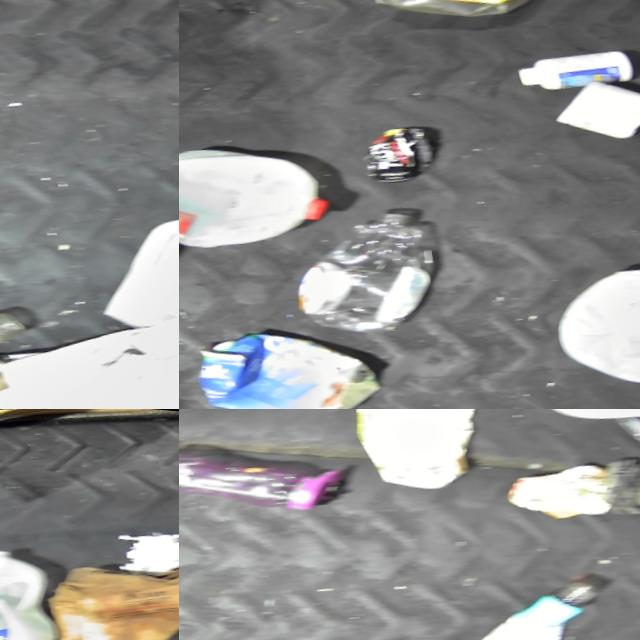can: (365, 116, 441, 184)
milk_jug: (179, 126, 338, 263), (86, 185, 179, 340), (549, 240, 640, 392), (0, 532, 62, 640)
plastic_bottle: (290, 195, 455, 343)
